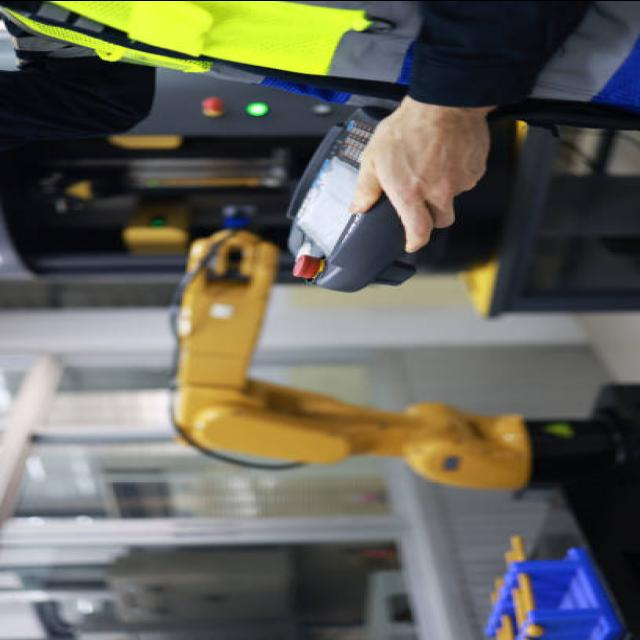Robotic-arm: (163, 212, 541, 504)
